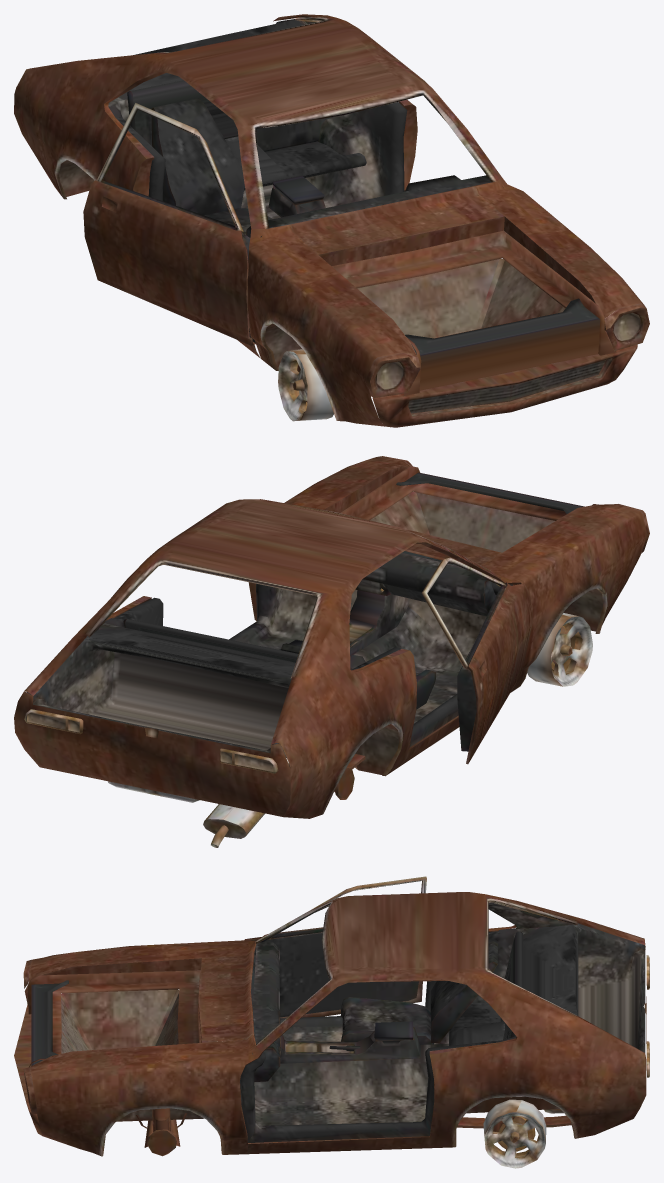
Rendered from compact_car_c_snow.glb.
3 views of the same model, one above another, from view 1: azimuth 30°, elevation 25°; view 2: azimuth 150°, elevation 25°; view 3: azimuth 270°, elevation 25° (orthographic). The views are drawn at different scales.
Parts seen in each view (by area): view 1: compact_car_c_LOD0; view 2: compact_car_c_LOD0; view 3: compact_car_c_LOD0.
Part boxes in pixels (x1,y1,x2,y2): compact_car_c_LOD0: (14, 14, 649, 427); compact_car_c_LOD0: (14, 456, 649, 847); compact_car_c_LOD0: (14, 876, 649, 1168).
Size of the model in its own units: 2.4 by 1.45 by 4.44.
1 material, 1 textured.
